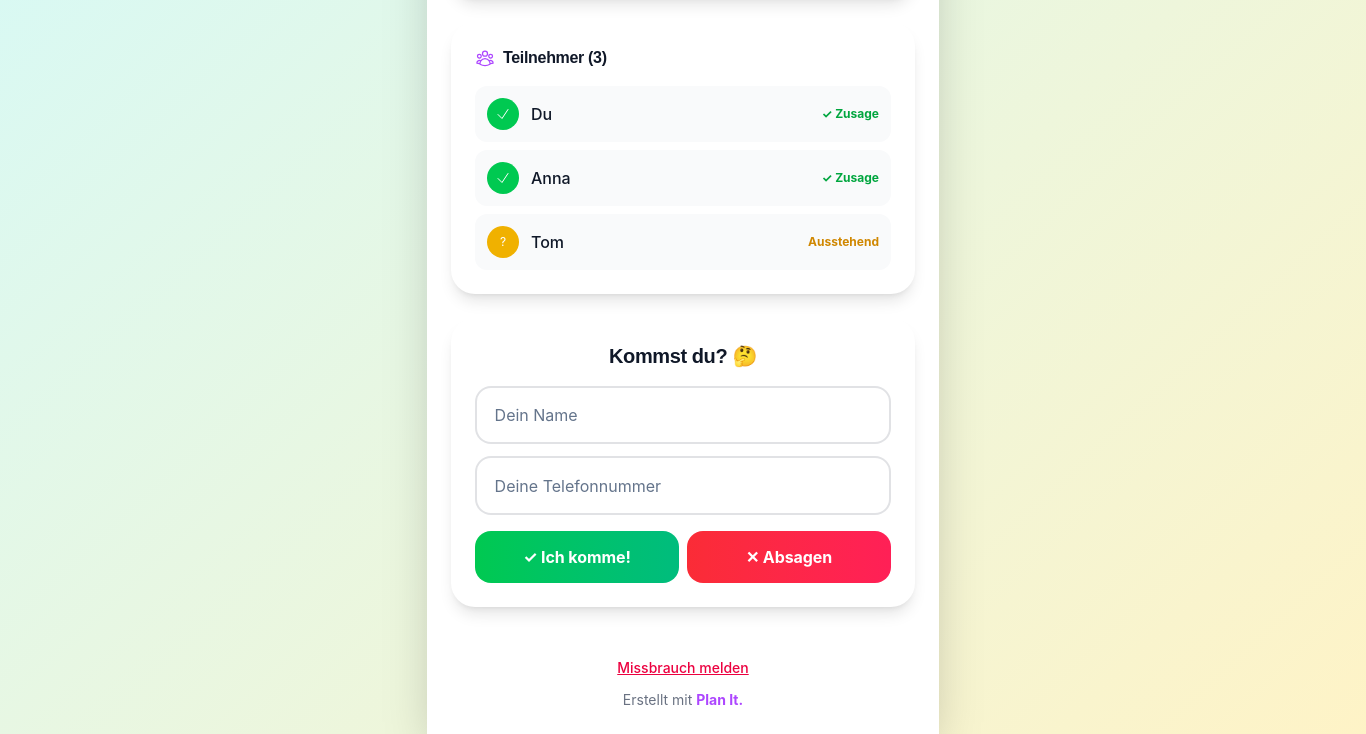
Test case: public invitation response › allows invitees to accept events and appear in the participant list
(page scrolled)
Type "Jamie" into the field with placeholder "Dein Name" at (683, 415), box [475,386,891,444]
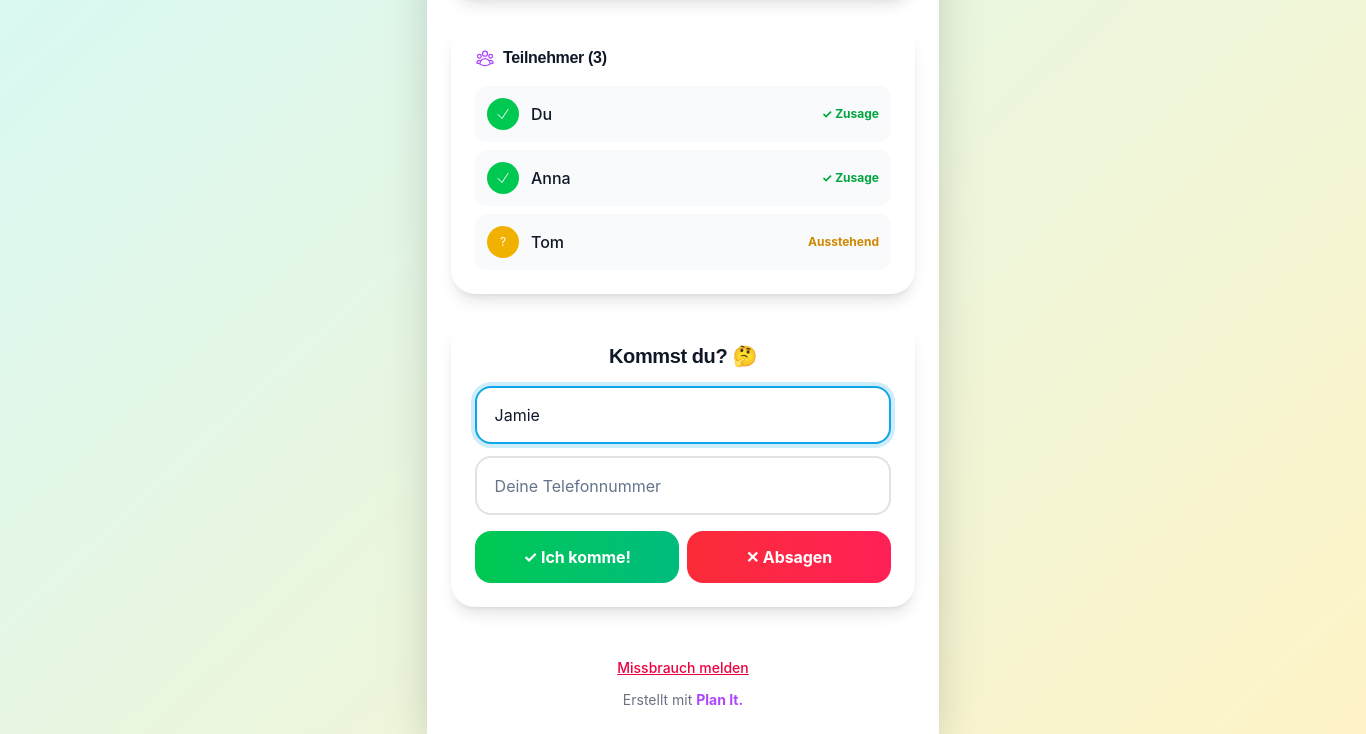
Type "+491234009999" into the field with placeholder "Deine Telefonnummer" at (683, 486), box [475,456,891,515]
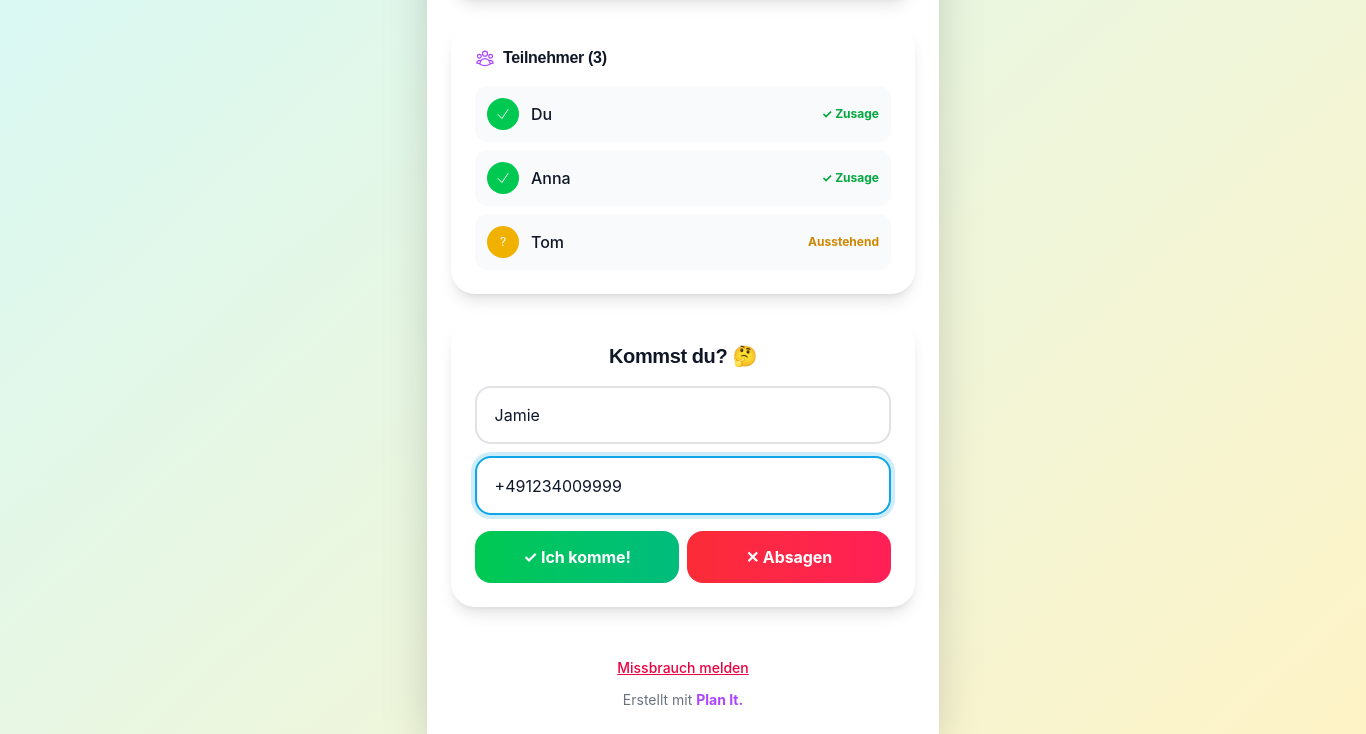
Click the button "✓ Ich komme!" at (577, 557), box [475,531,679,583]
(page scrolled)
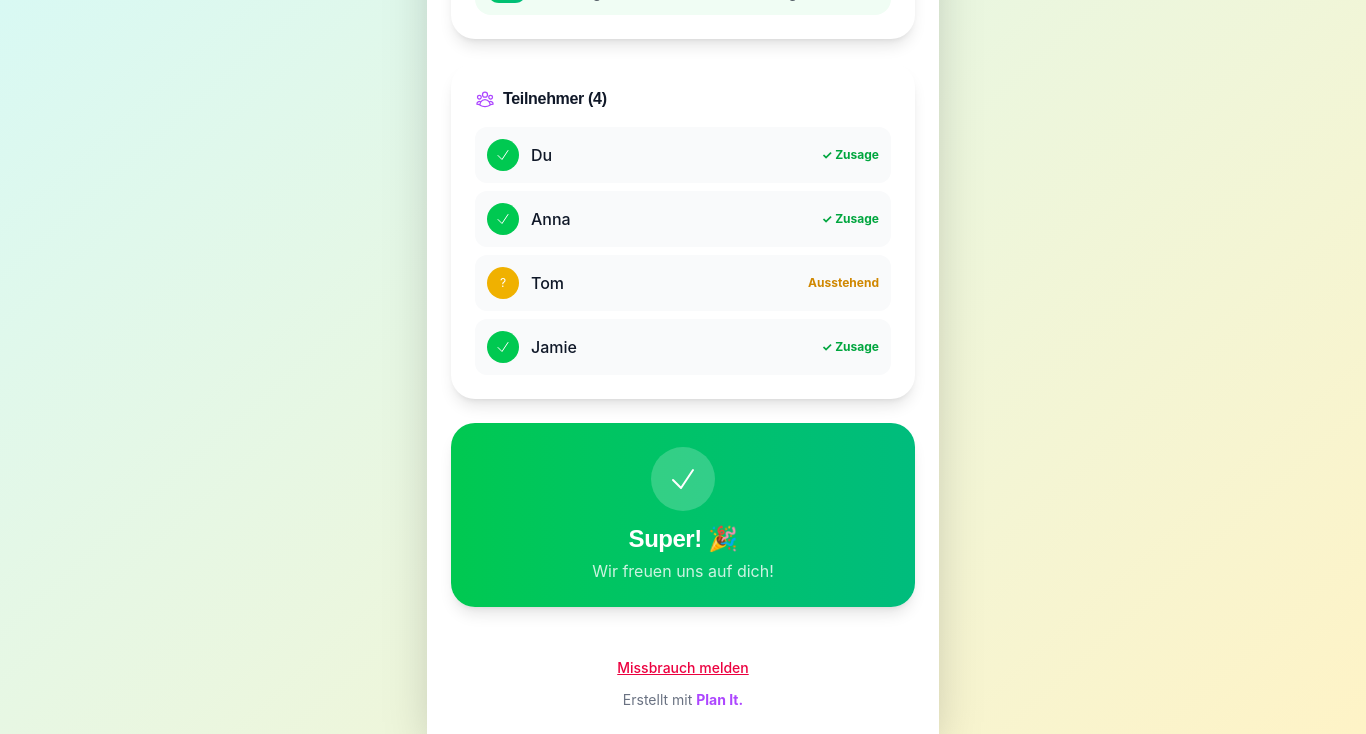
expect the heading "Super! 🎉" is shown: met, box [629,525,737,552]
expect the text "Jamie" is shown: met, box [531,335,577,359]
